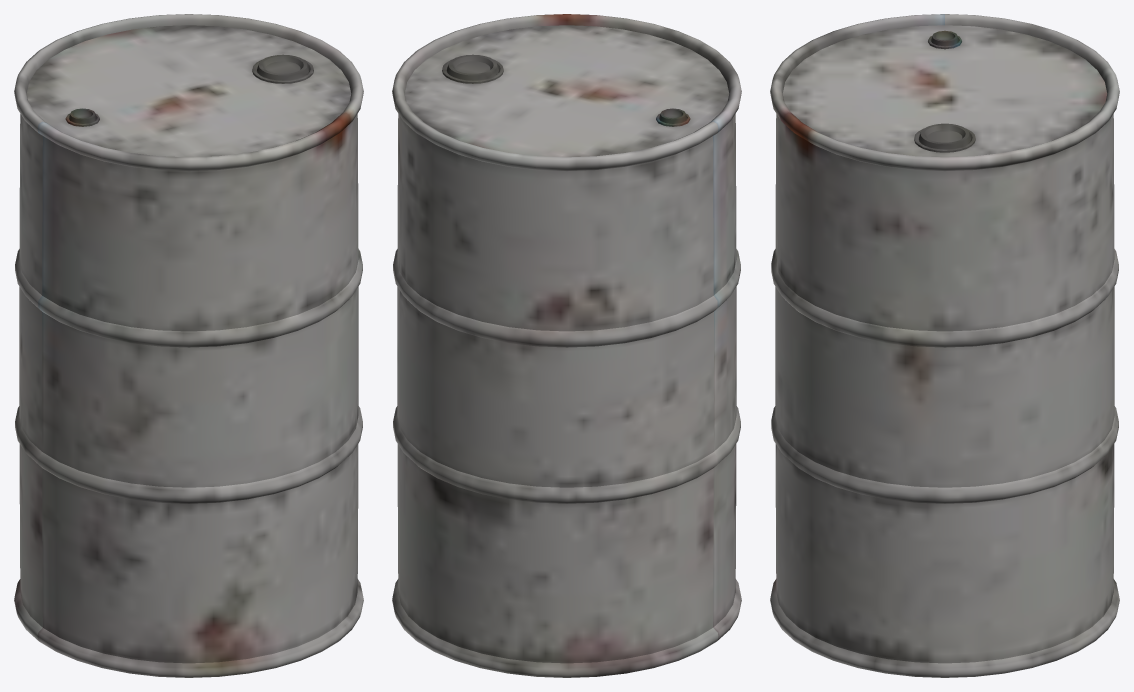
File: SM_barrel2_7f1288.glb
The picture shows the model from 3 angles, left to right: view 1: azimuth 30°, elevation 25°; view 2: azimuth 150°, elevation 25°; view 3: azimuth 270°, elevation 25°; orthographic projection.
Bounding box in the file's own units: 0.5572 × 0.9144 × 0.5571.
1 material, 1 textured.
